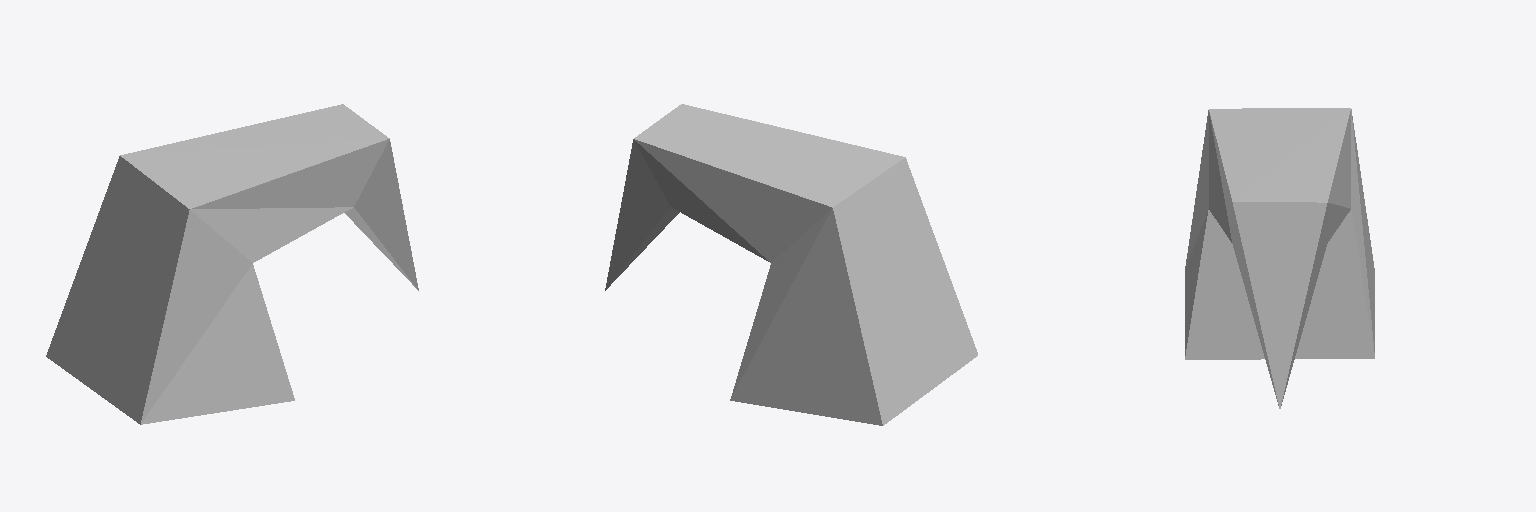
File: skeletal_000016.obj
3 renders of one model, left to right at view 1: azimuth 30°, elevation 25°; view 2: azimuth 150°, elevation 25°; view 3: azimuth 270°, elevation 25°, orthographic.
Visible parts, largest first — view 1: Cube; view 2: Cube; view 3: Cube.
Part boxes in pixels (x1,y1,x2,y2): Cube: (46,104,418,424); Cube: (605,104,977,425); Cube: (1185,108,1374,408).
Bounding box in the file's own units: 3.96 × 2.5 × 2.